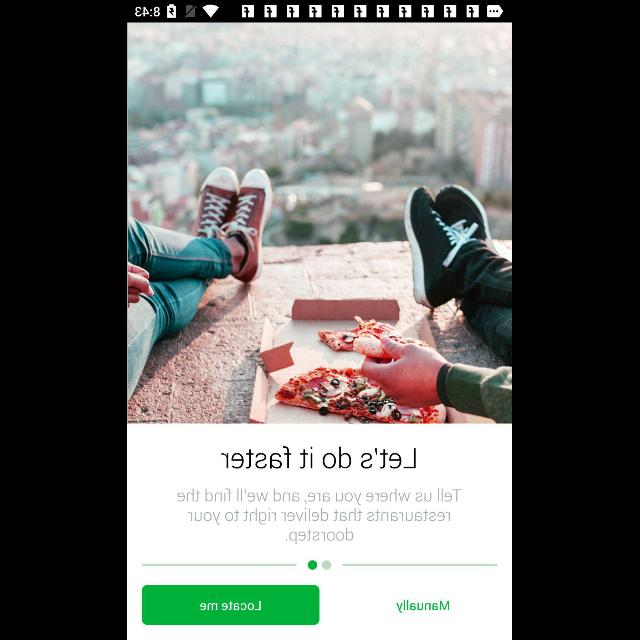image: (130, 23, 512, 423)
pageindicator: (308, 560, 332, 570)
text: (178, 488, 462, 544), (222, 447, 416, 469), (396, 600, 449, 612)
textbutton: (142, 585, 320, 625)
uppertaskbar: (128, 1, 512, 23)
